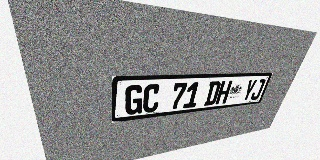1: (183, 82, 201, 108)
7: (169, 82, 188, 110)
C: (142, 84, 161, 113)
D: (204, 81, 222, 106)
G: (125, 85, 144, 115)
H: (215, 80, 233, 104)
J: (250, 79, 266, 100)
Y: (241, 79, 258, 101)
